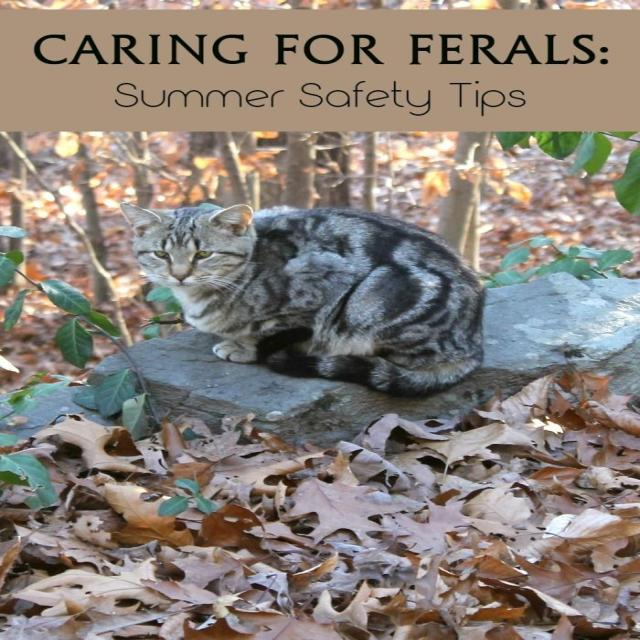cat: (122, 204, 485, 396)
